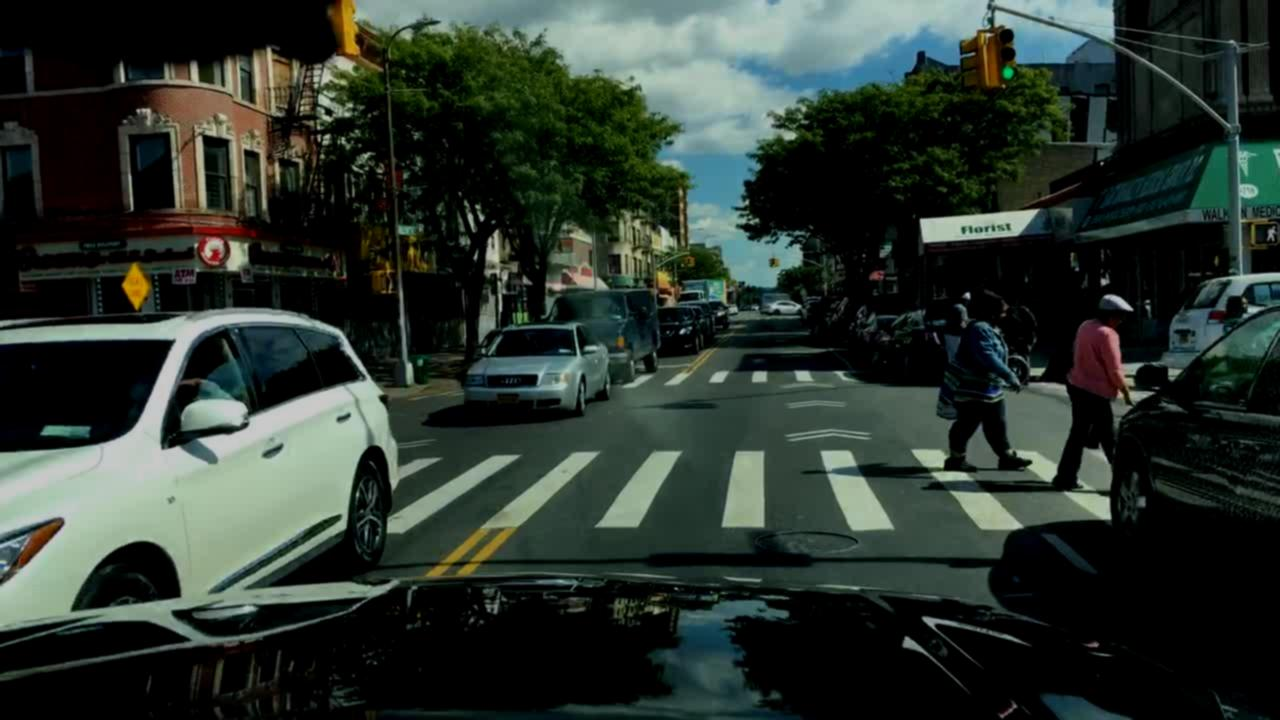Audi: (490, 373, 525, 390)
